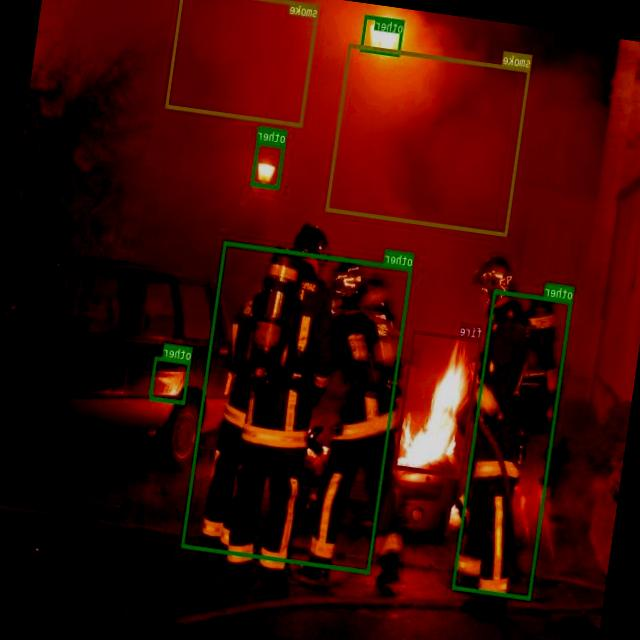fire: (393, 329, 482, 478)
smoke: (326, 44, 531, 236), (166, 0, 320, 126)
